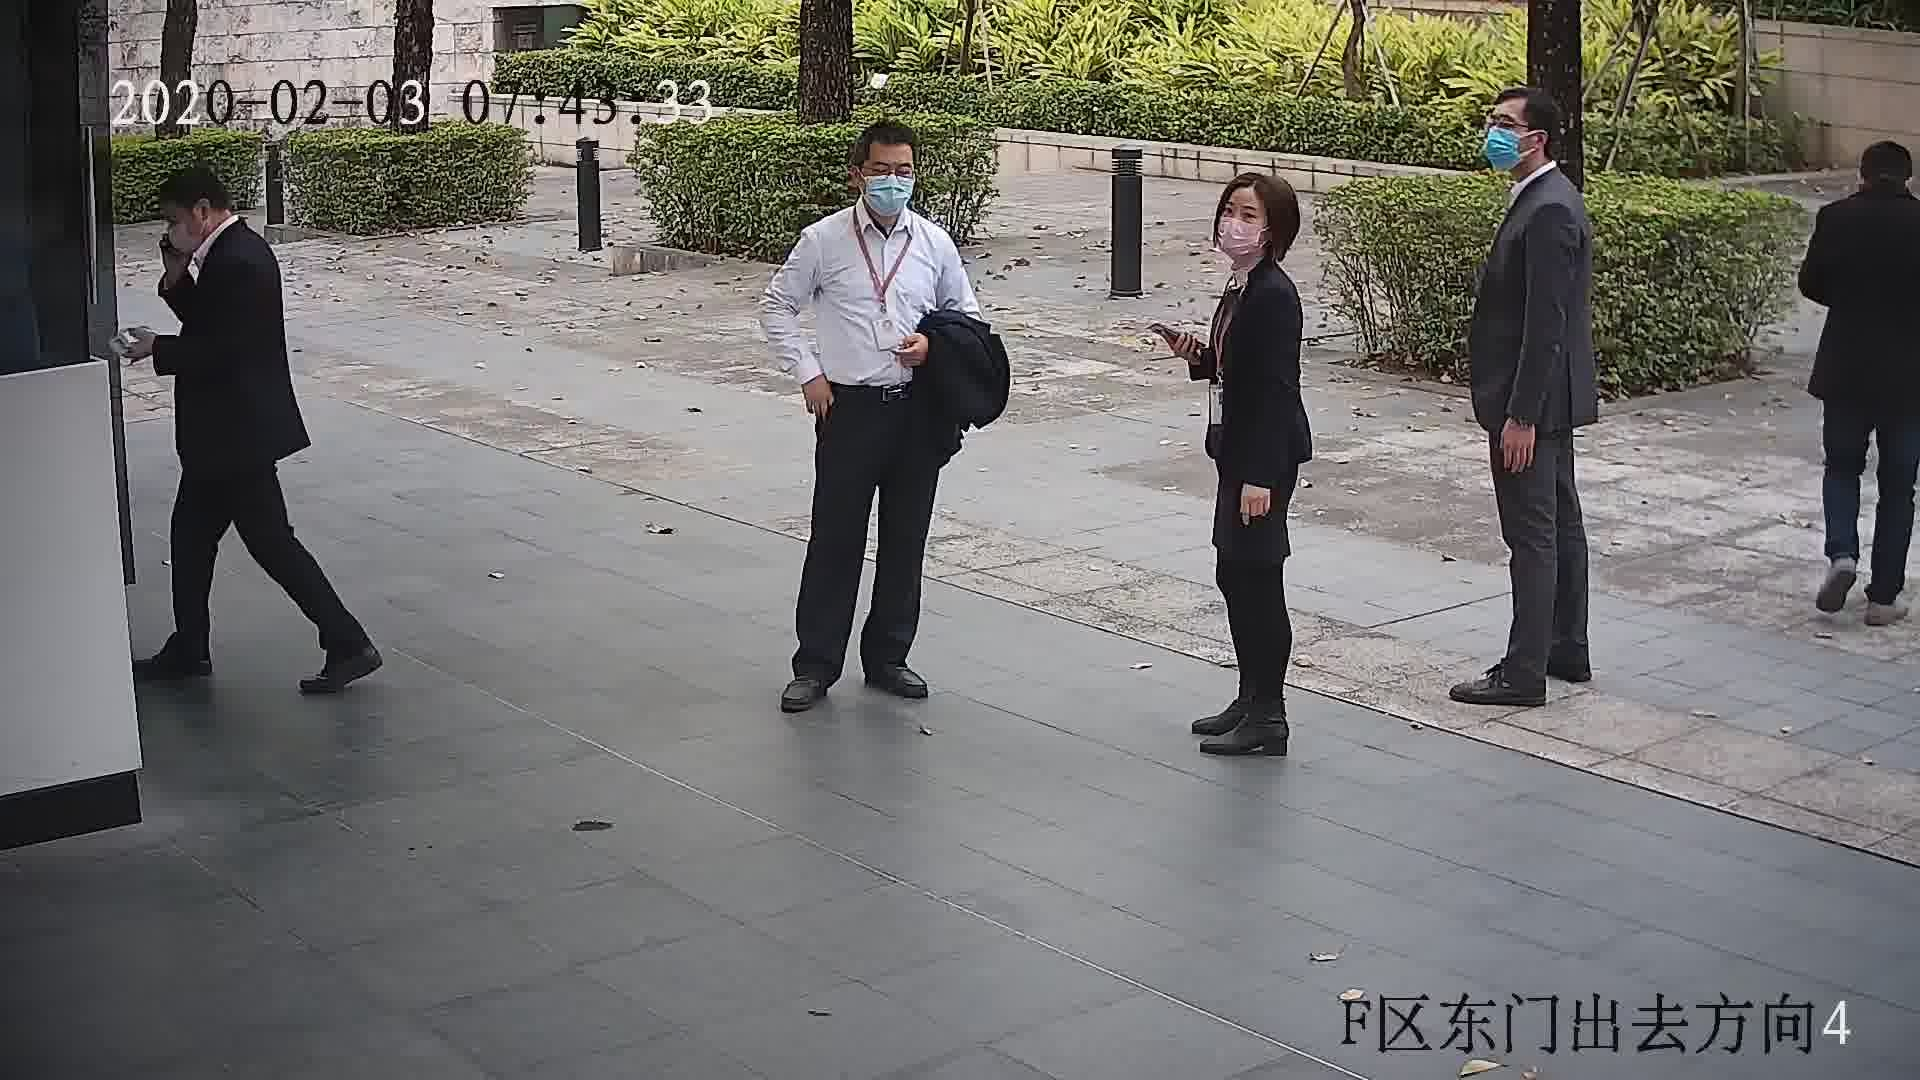face: (858, 139, 923, 219), (1216, 187, 1279, 249), (1485, 96, 1535, 170), (161, 183, 209, 261)
mask: (864, 170, 916, 219), (1213, 211, 1261, 256), (1482, 123, 1522, 176), (164, 221, 200, 255)
person: (793, 121, 954, 264), (143, 169, 269, 303), (1484, 83, 1591, 232), (1207, 170, 1313, 311), (1809, 131, 1920, 257)
